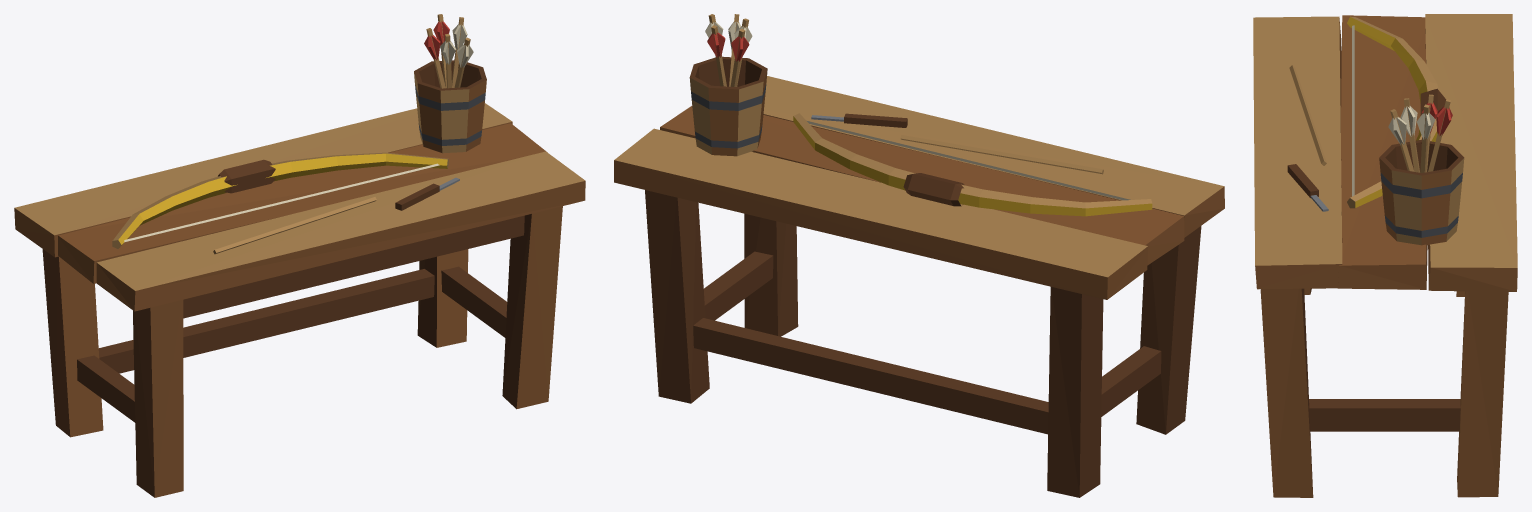
Rendered from bow_bench_1.glb.
3 renders of one model, left to right at view 1: azimuth 30°, elevation 25°; view 2: azimuth 150°, elevation 25°; view 3: azimuth 270°, elevation 25°, orthographic. The views are drawn at different scales.
Parts seen in each view (by area): view 1: bow_bench_1; view 2: bow_bench_1; view 3: bow_bench_1.
Part boxes in pixels (x1=…): bow_bench_1: x1=14, y1=14, x2=585, y2=497; bow_bench_1: x1=614, y1=14, x2=1224, y2=497; bow_bench_1: x1=1253, y1=14, x2=1517, y2=497.
Bounding box in the file's own units: 1.62 × 1.14 × 0.7148.
